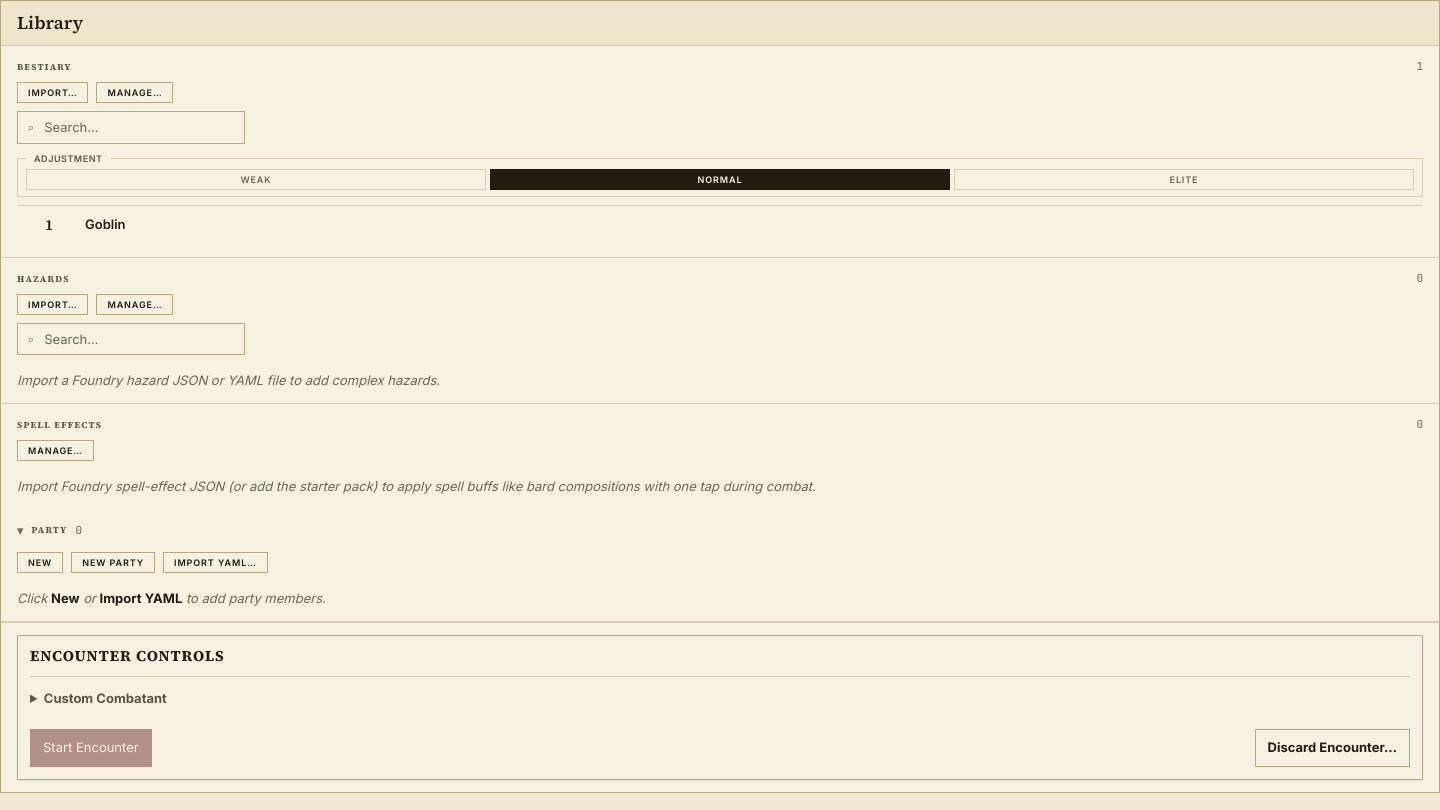
Test: LibraryPane › clicking "Manage…" from the bestiary section opens the manage modal
Click the button "Manage…" below "Bestiary".
click(135, 93)  # box [96,82,174,103]
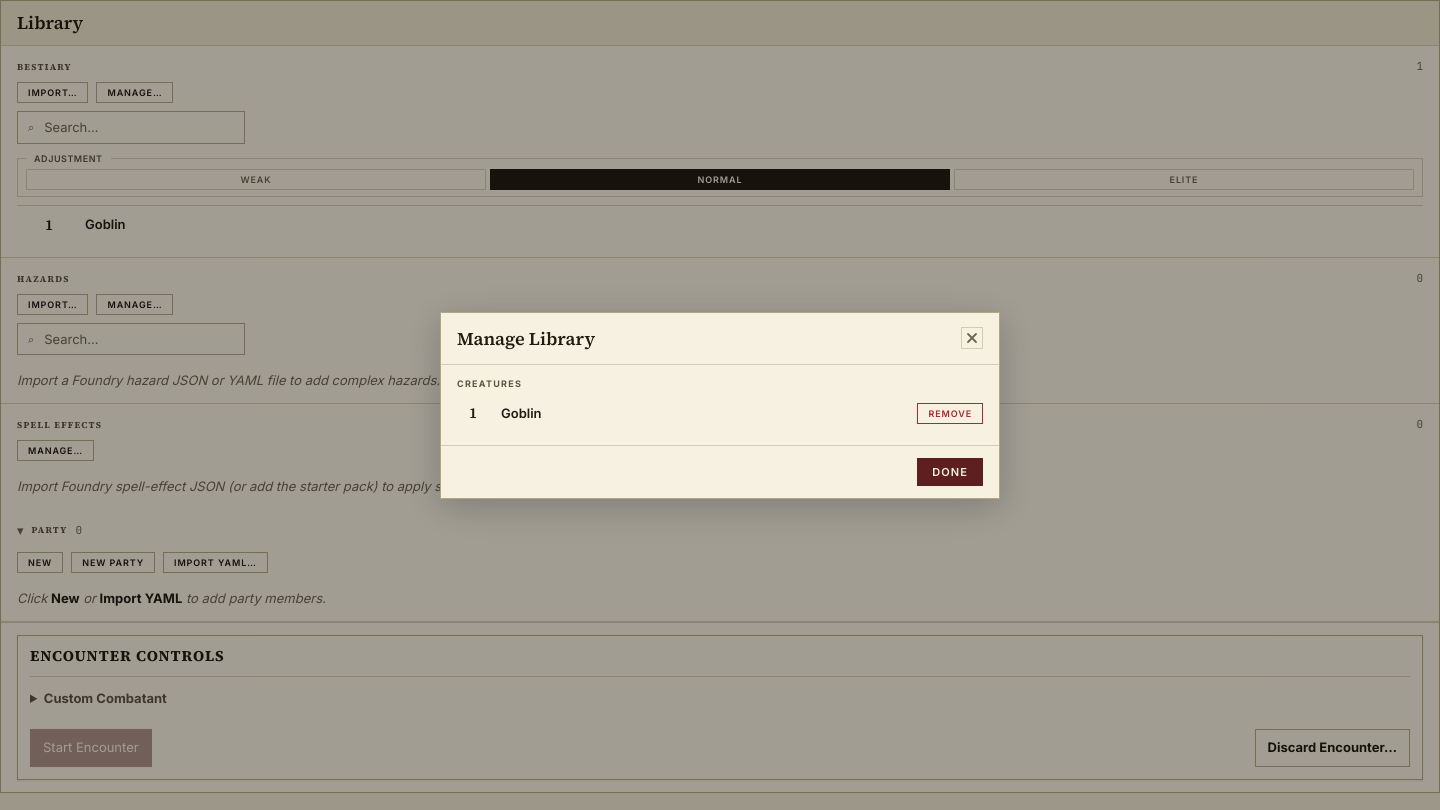
Expected: the button "Done" is shown, [917,458,983,486]
